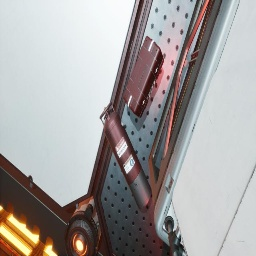FirstAidBox ,: (123, 36, 164, 118)
NitrogenTank ,: (100, 102, 152, 209)
